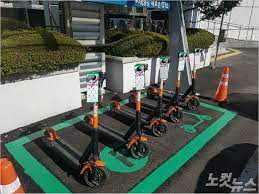kick_body: (52, 142, 83, 163), (99, 124, 126, 140)
kick_neck: (90, 87, 100, 158), (136, 74, 143, 134), (189, 55, 199, 94), (158, 68, 165, 115), (177, 60, 183, 103)
kick_wheel: (84, 165, 106, 187), (131, 141, 149, 159), (153, 121, 168, 137), (169, 109, 184, 122), (186, 98, 199, 110)
